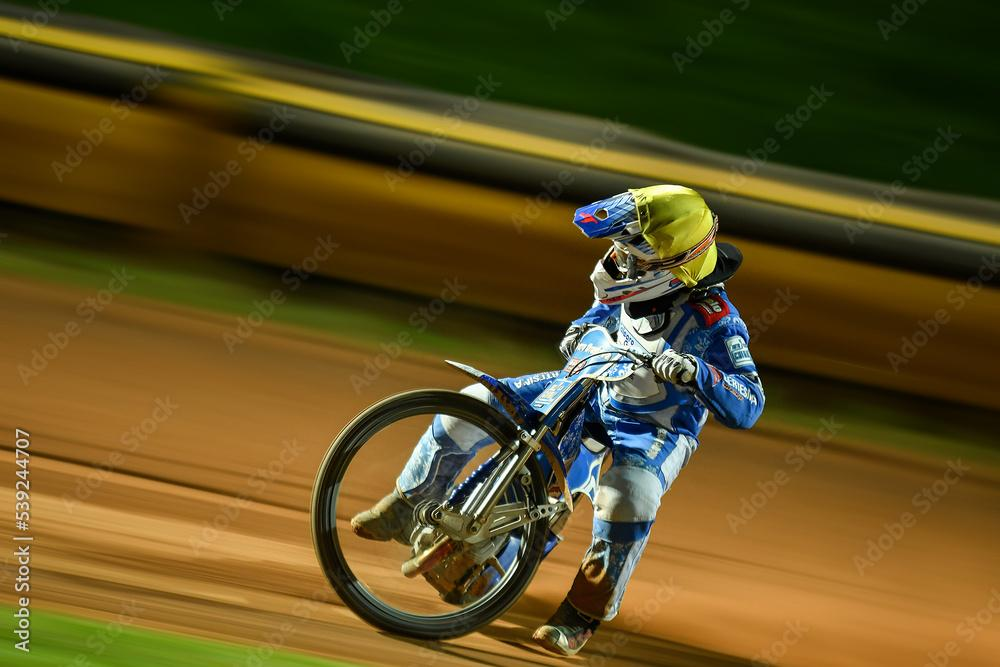helmet: (571, 183, 720, 307)
